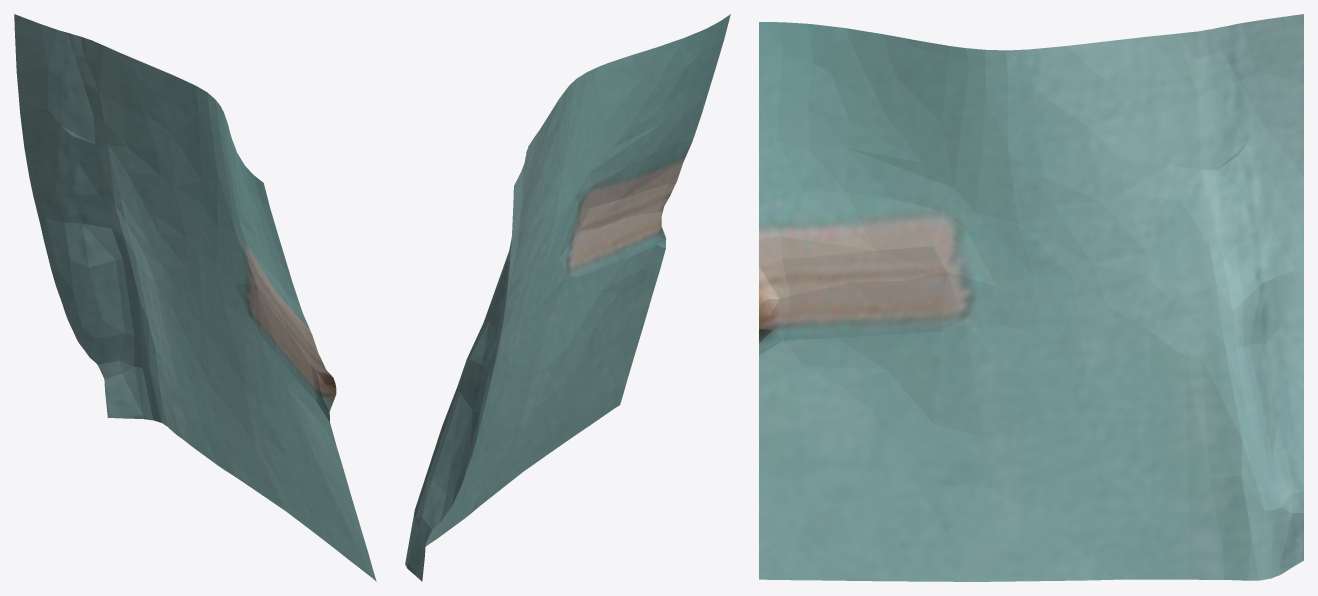
3 views of the same model, side by side, from view 1: azimuth 30°, elevation 25°; view 2: azimuth 150°, elevation 25°; view 3: azimuth 270°, elevation 25° (orthographic). The views are drawn at different scales.
Visible parts, largest first — view 1: 091_W_Aya_100K_01; view 2: 091_W_Aya_100K_01; view 3: 091_W_Aya_100K_01.
Boxes of the visible parts, bbox=[...] form: 091_W_Aya_100K_01: bbox=[14, 14, 376, 581]; 091_W_Aya_100K_01: bbox=[405, 14, 730, 581]; 091_W_Aya_100K_01: bbox=[759, 14, 1303, 581].
Size of the model in its own units: 27.62 by 85.74 by 85.74.
1 material, 1 textured.
